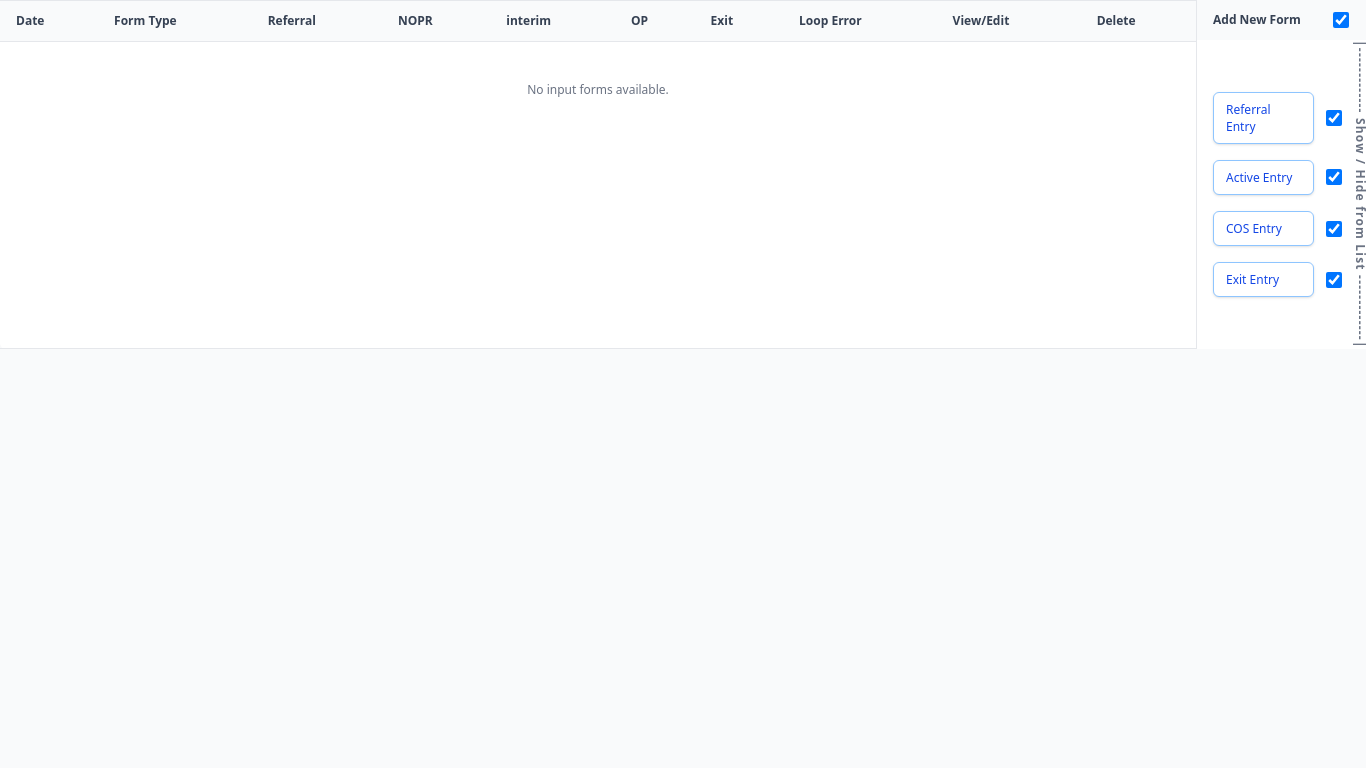
Test: opens the editor when an Add New Form button is clicked
Click the button "Referral Entry" at (1263, 118), box [1213, 92, 1314, 144]
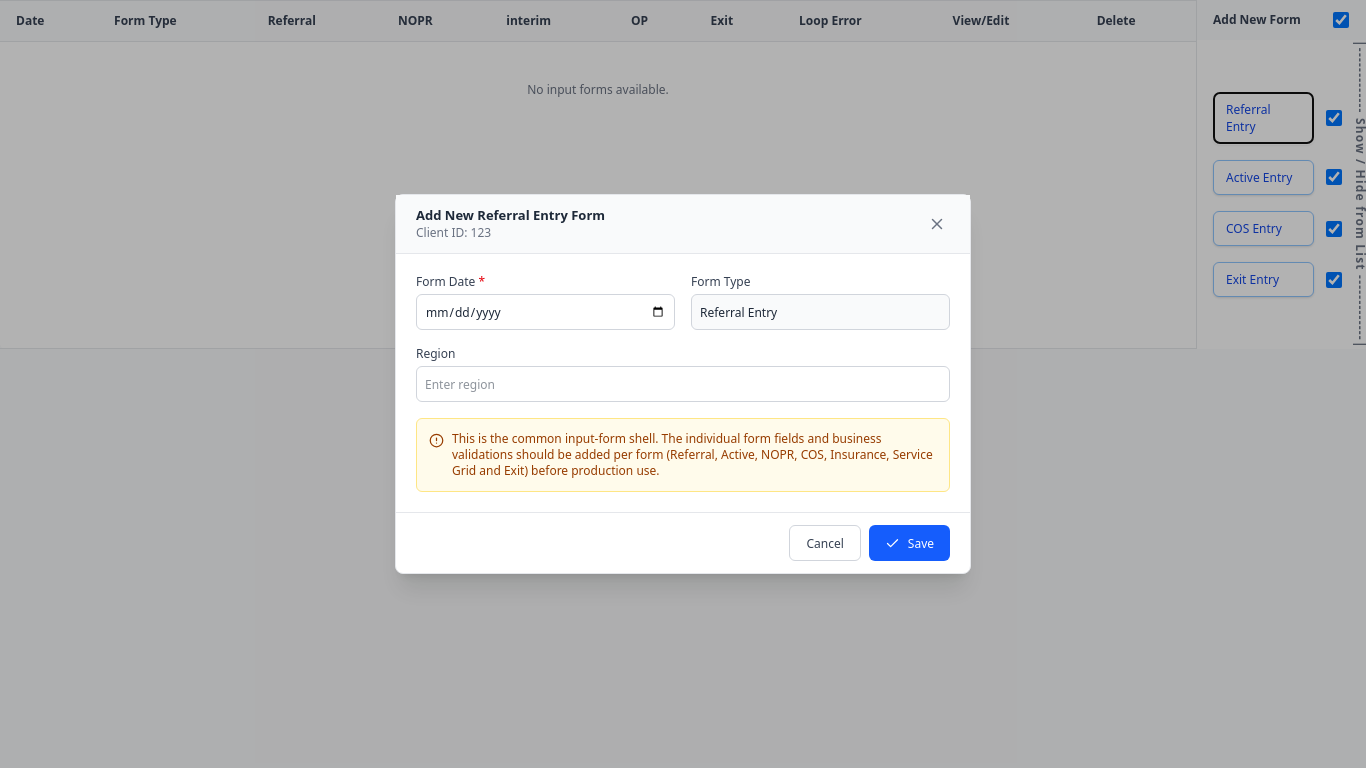
expect the heading "Add New Referral Entry Form" is shown: met, box [416, 206, 605, 223]
expect the text "Client ID: 123" is shown: met, box [416, 224, 491, 241]
